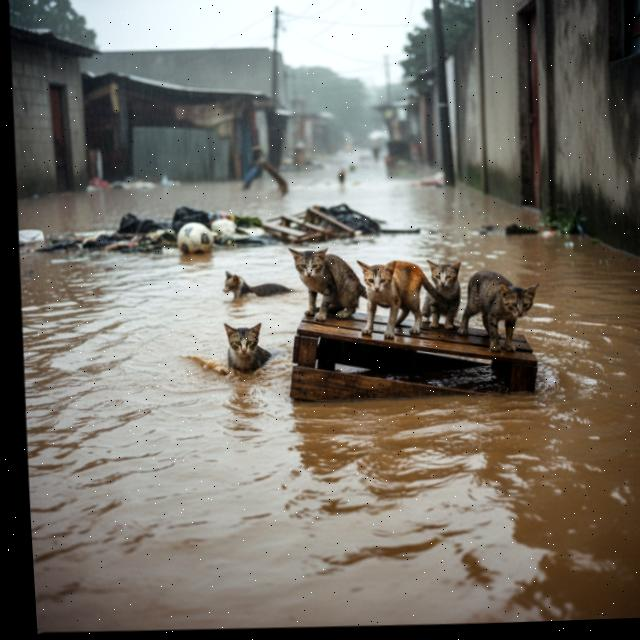cat: (346, 251, 443, 343), (275, 240, 366, 332), (459, 264, 543, 353), (209, 311, 284, 388), (416, 252, 469, 340), (216, 264, 295, 305)
